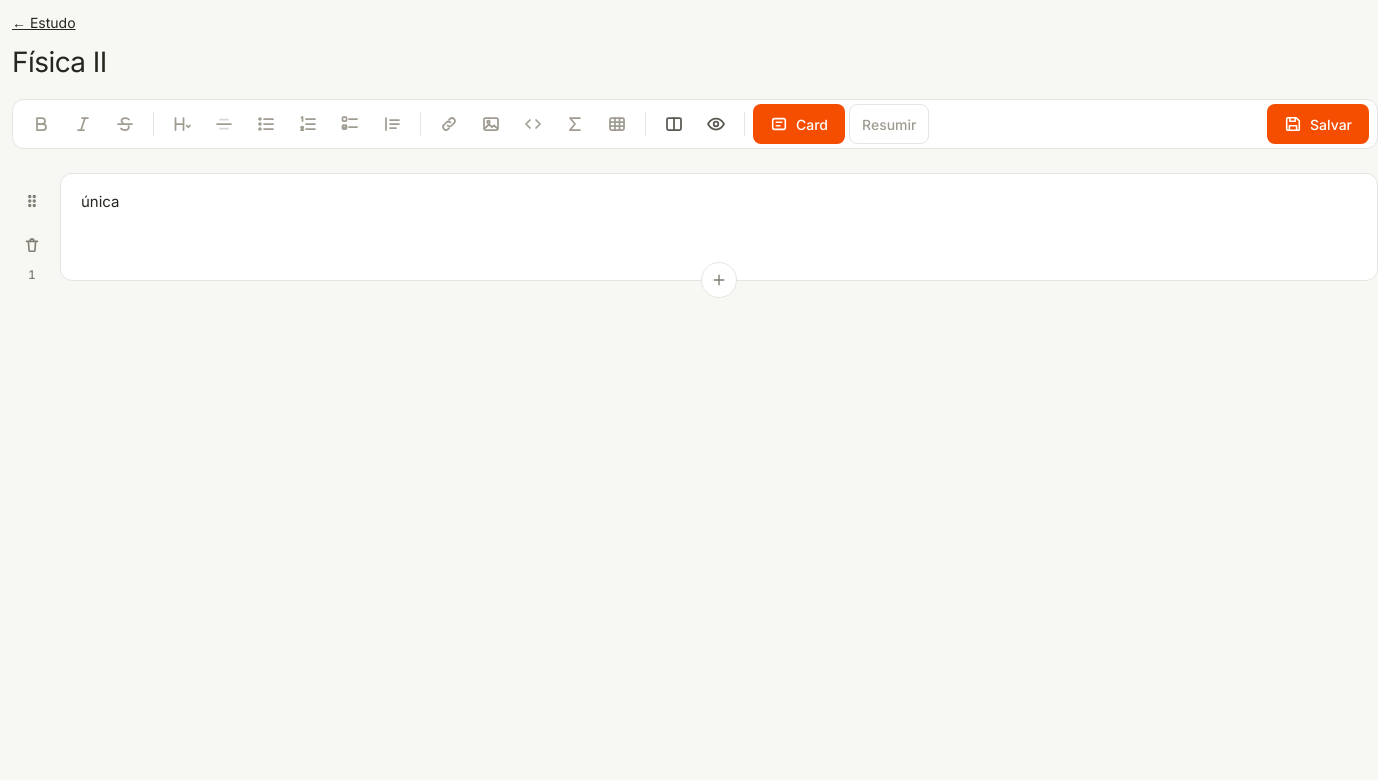
Test: EditorView — células › Desfazer não descarta o que já foi digitado na célula vazia
The image size is (1378, 780).
Click the button named "Excluir célula" at (32, 245), box [12,225,52,265]
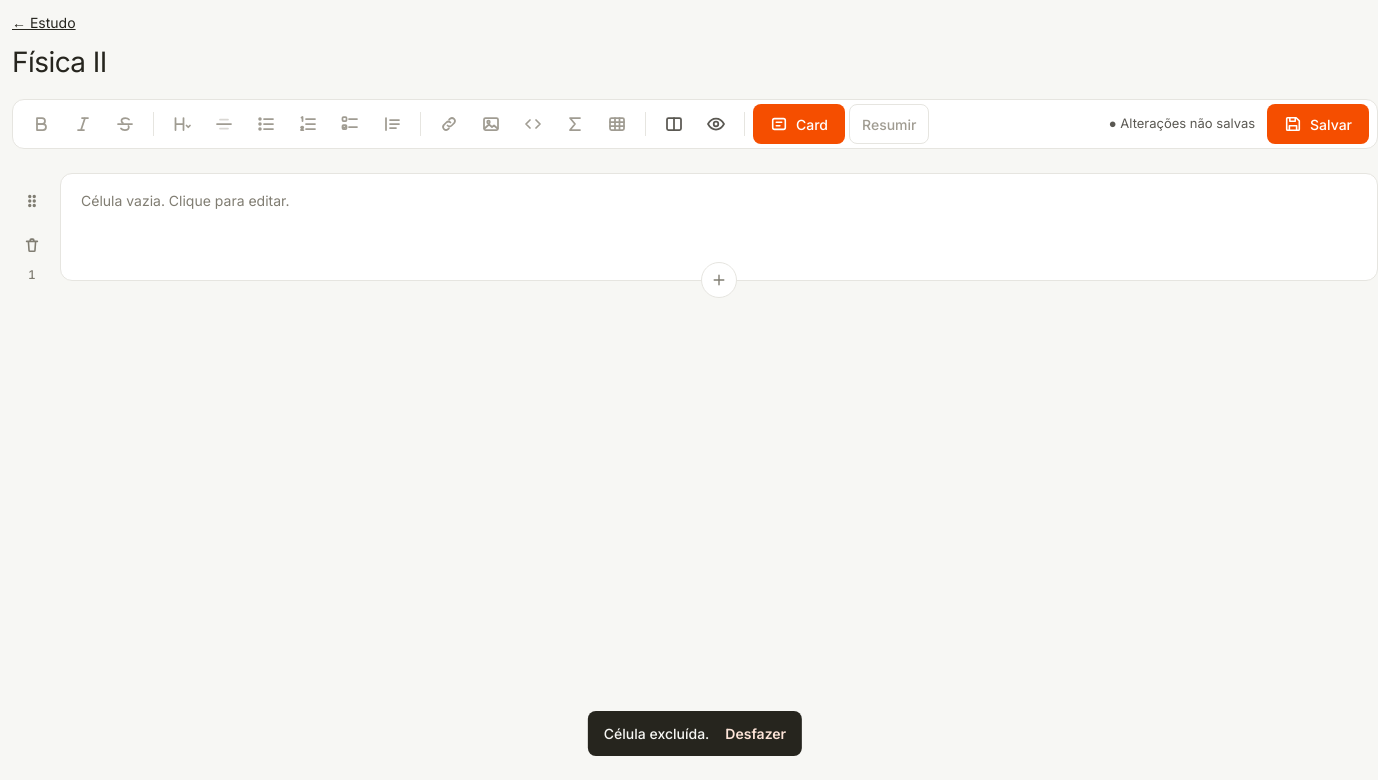
Click the text "Célula vazia. Clique para editar." at (185, 200), box [81,192,290,209]
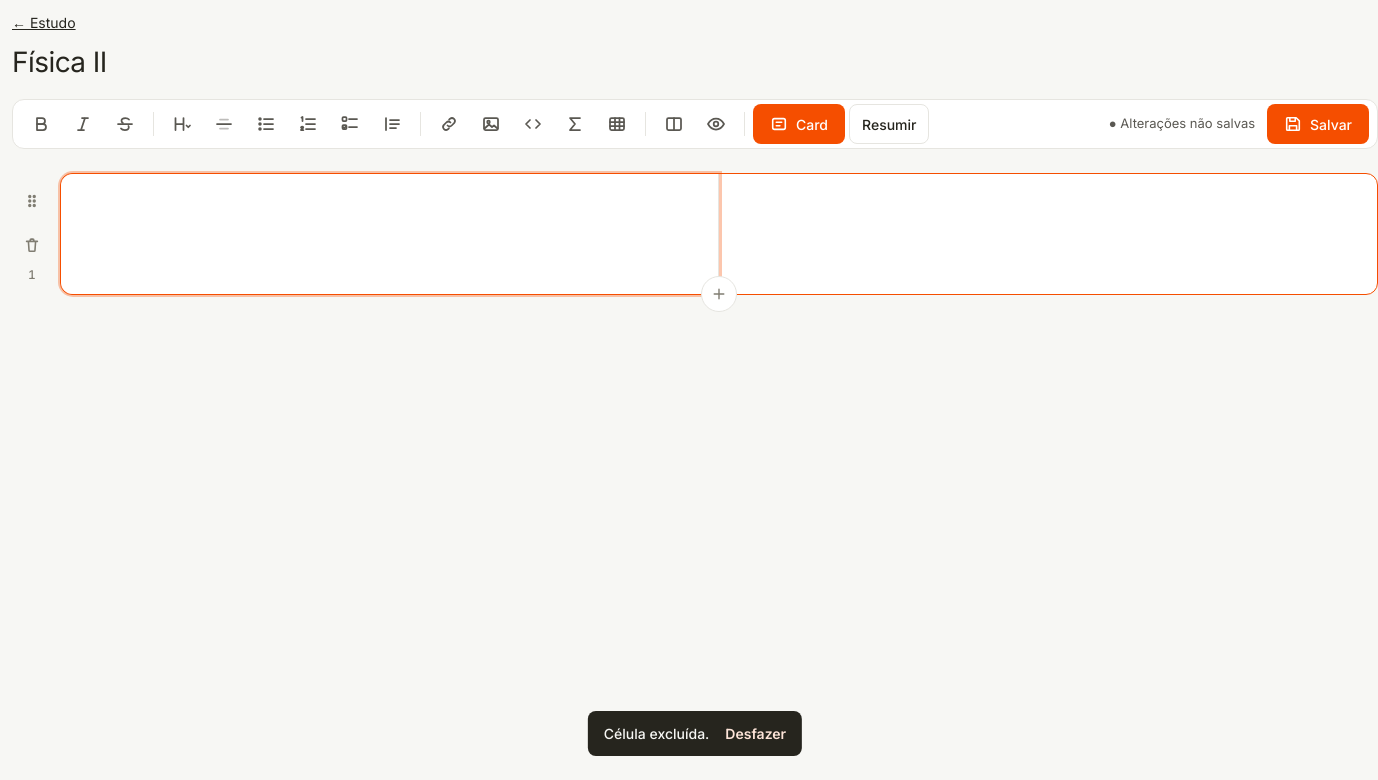
Type "novo" into the text box named "Markdown da célula 1" at (390, 234), box [61,174,719,294]
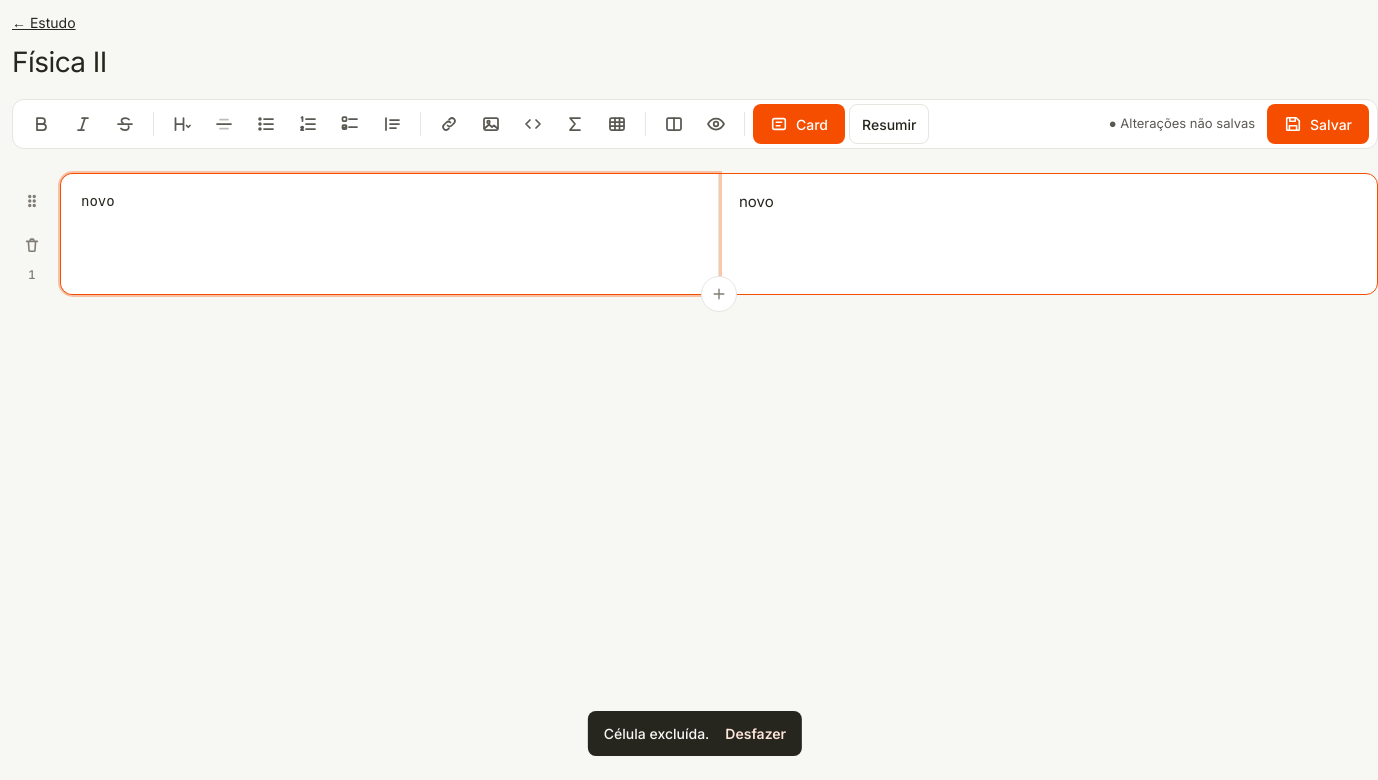
Click the button "Desfazer" at (756, 734), box [725,725,786,742]
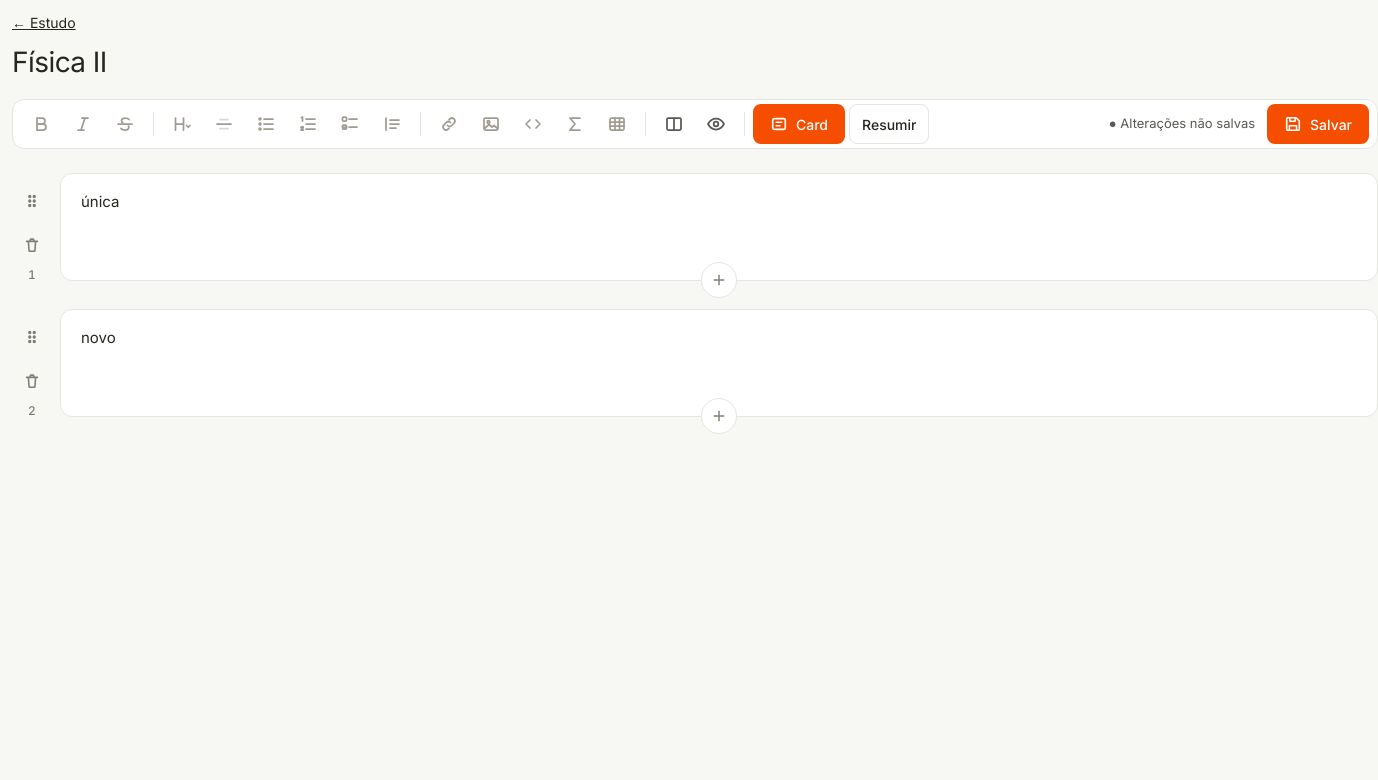
Check: the number of elements "1 única" is 2, box [12,165,1377,289]; [12,301,1377,425]
